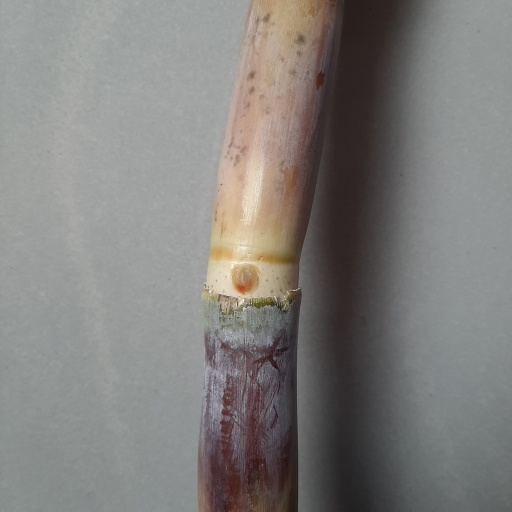Bud: (230, 263, 261, 297)
